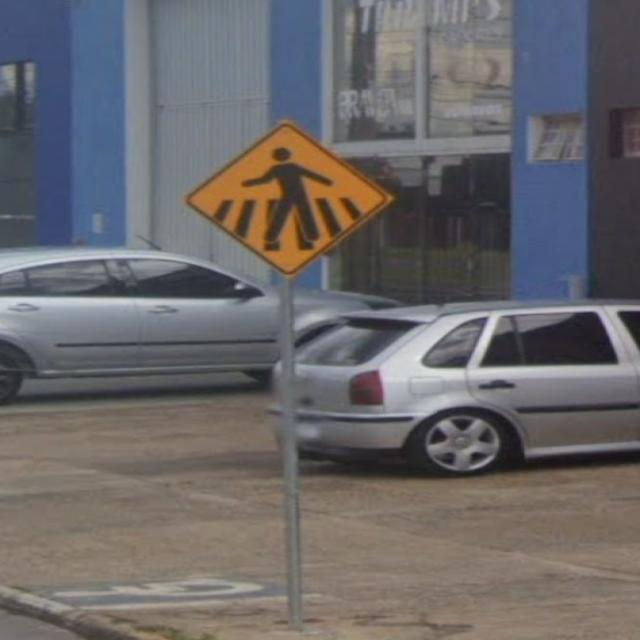pedestrian crossing: (165, 105, 403, 292)
